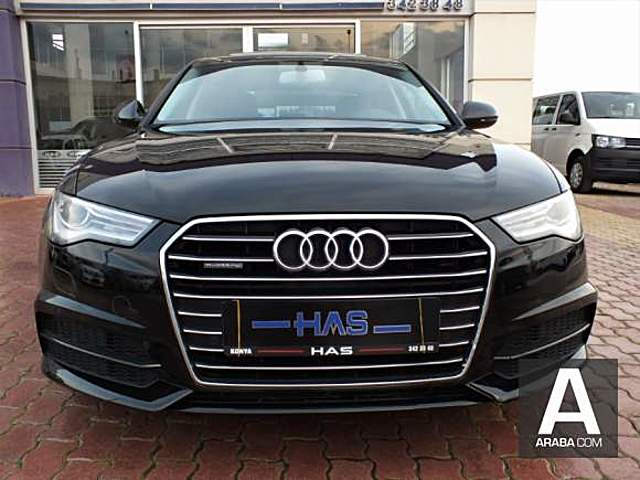audi: (263, 220, 399, 275)
